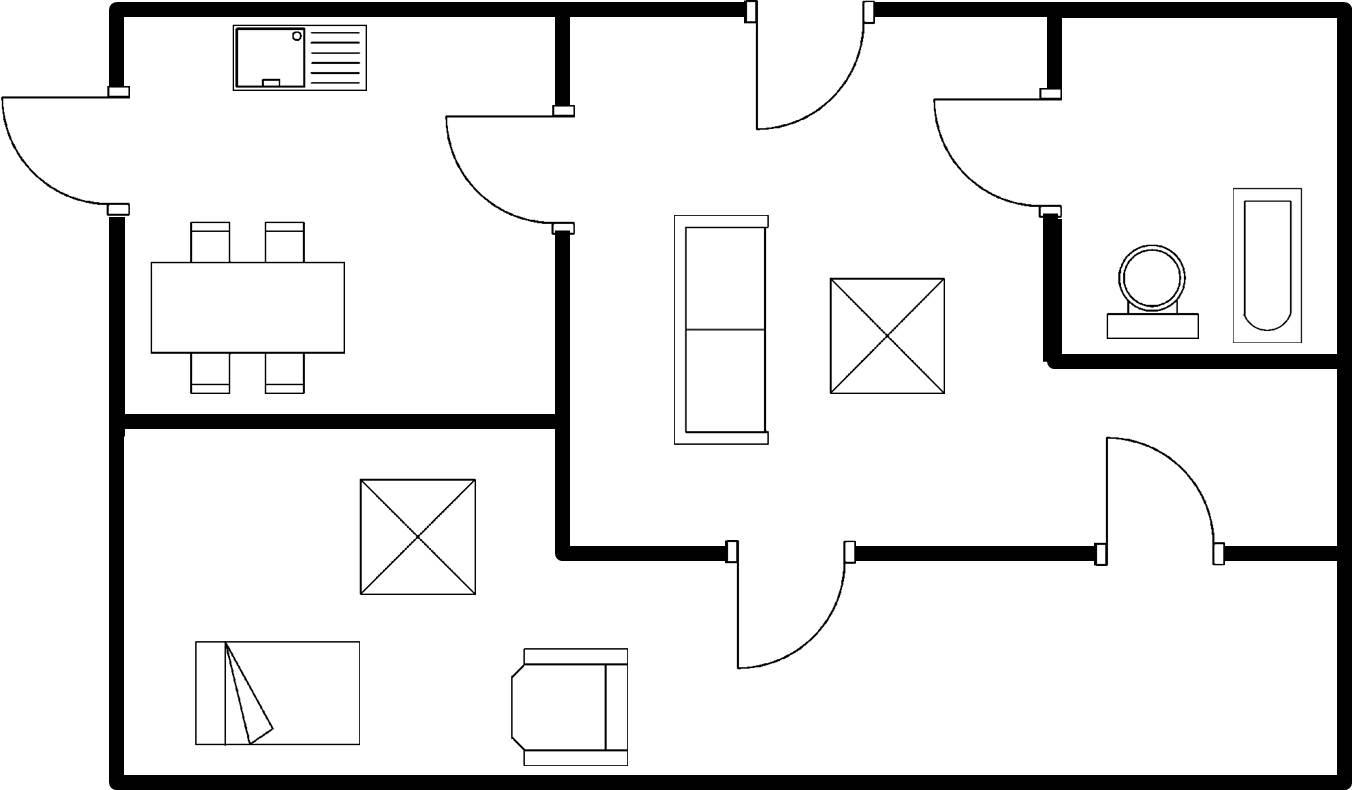bed: (186, 630, 366, 751)
dining_table: (144, 213, 351, 402)
sink: (226, 18, 371, 96)
sofa: (665, 205, 781, 450)
toilet: (1098, 237, 1205, 347)
tub: (1224, 180, 1306, 349)
